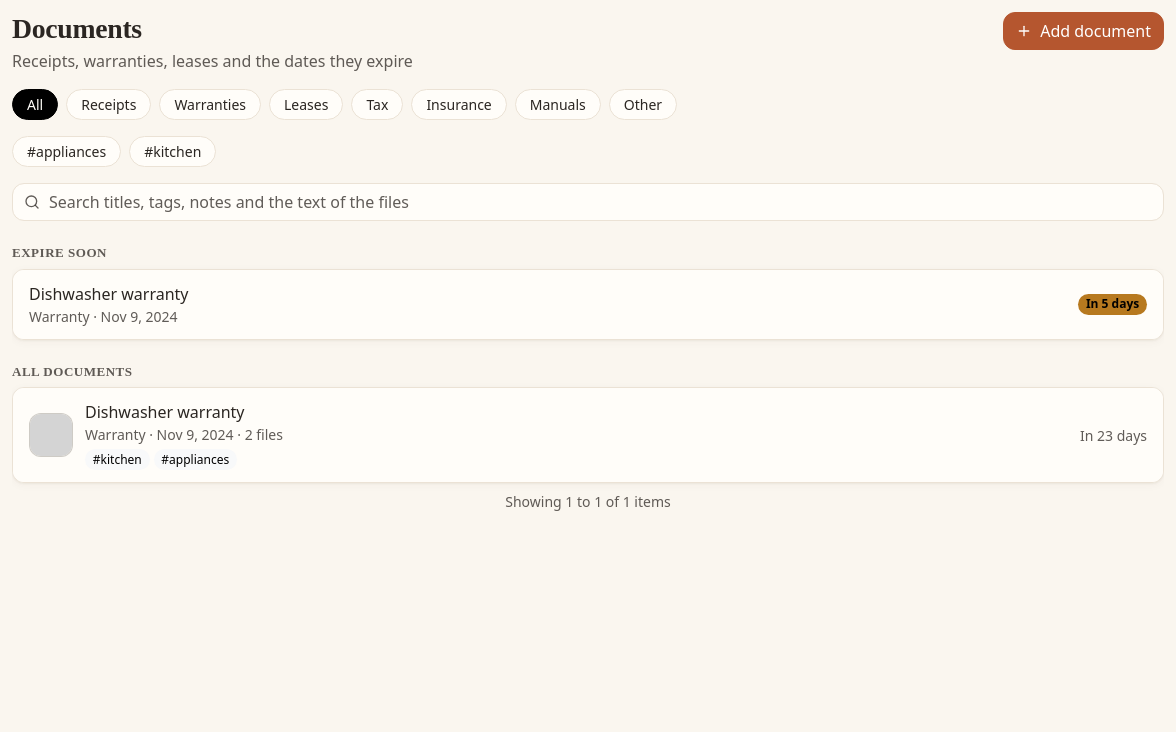
Test: DocumentListComponent › searches after a pause in the typing, best match first, without the expire-soon list
Expected: the list with test id "expire-soon" is shown, [13,270,1163,339]
Type " kettle " into the search field with id "document-search" at (588, 202), box [12,183,1164,221]
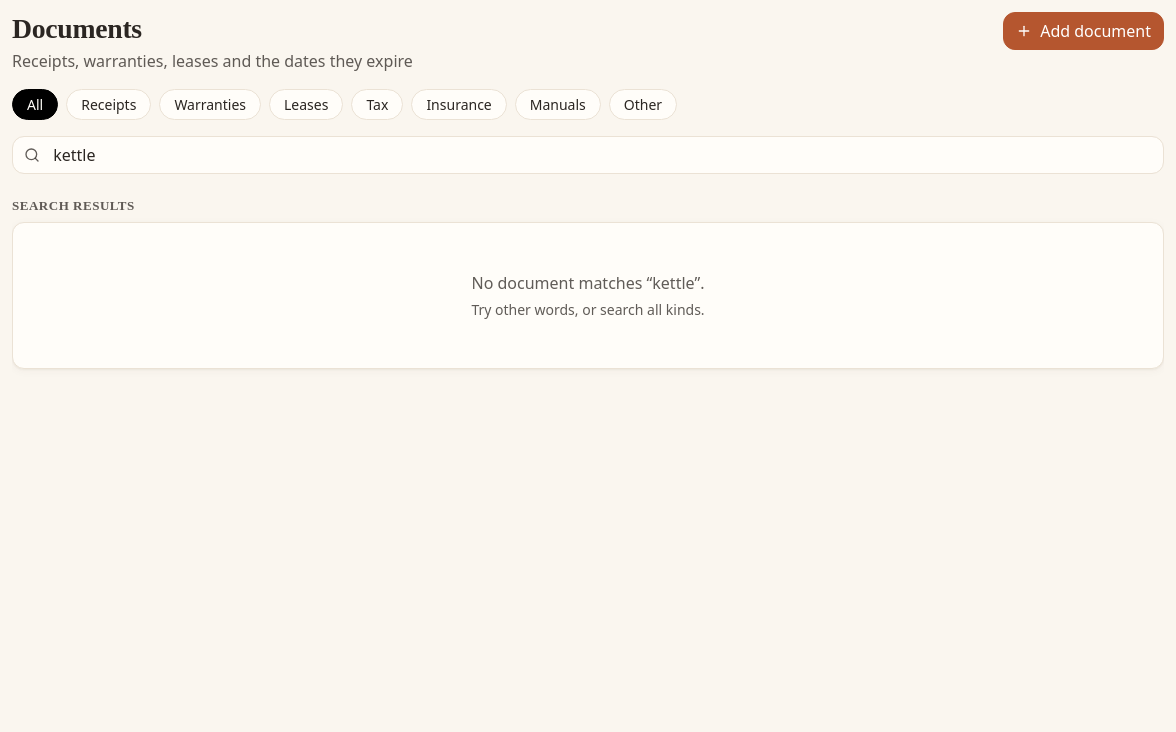
Result: the list with test id "expire-soon" is gone
Result: the text "No document matches “kettle”." is shown at [472,272,704,294]
